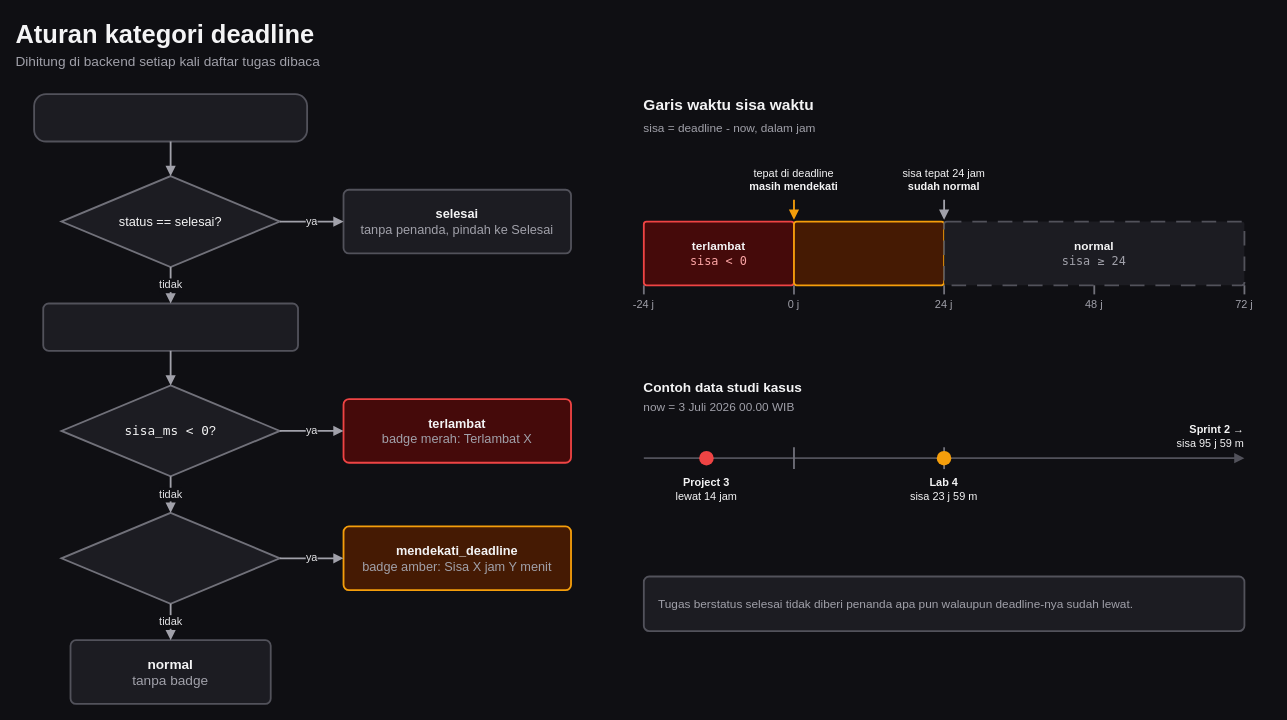
This 1287x720 diagram has some shape labels left out. The shapes that lost their labels are listed below. From the top down, each one's box as (x1, y1, x2, y2) in pixels, then its label:
(33, 93, 308, 142): categorizeTask(task, now)
(793, 220, 945, 286): mendekati 0 ≤ sisa < 24
(42, 302, 298, 351): sisa_ms = deadline - now
(60, 511, 280, 604): sisa_ms < 24 jam ?
